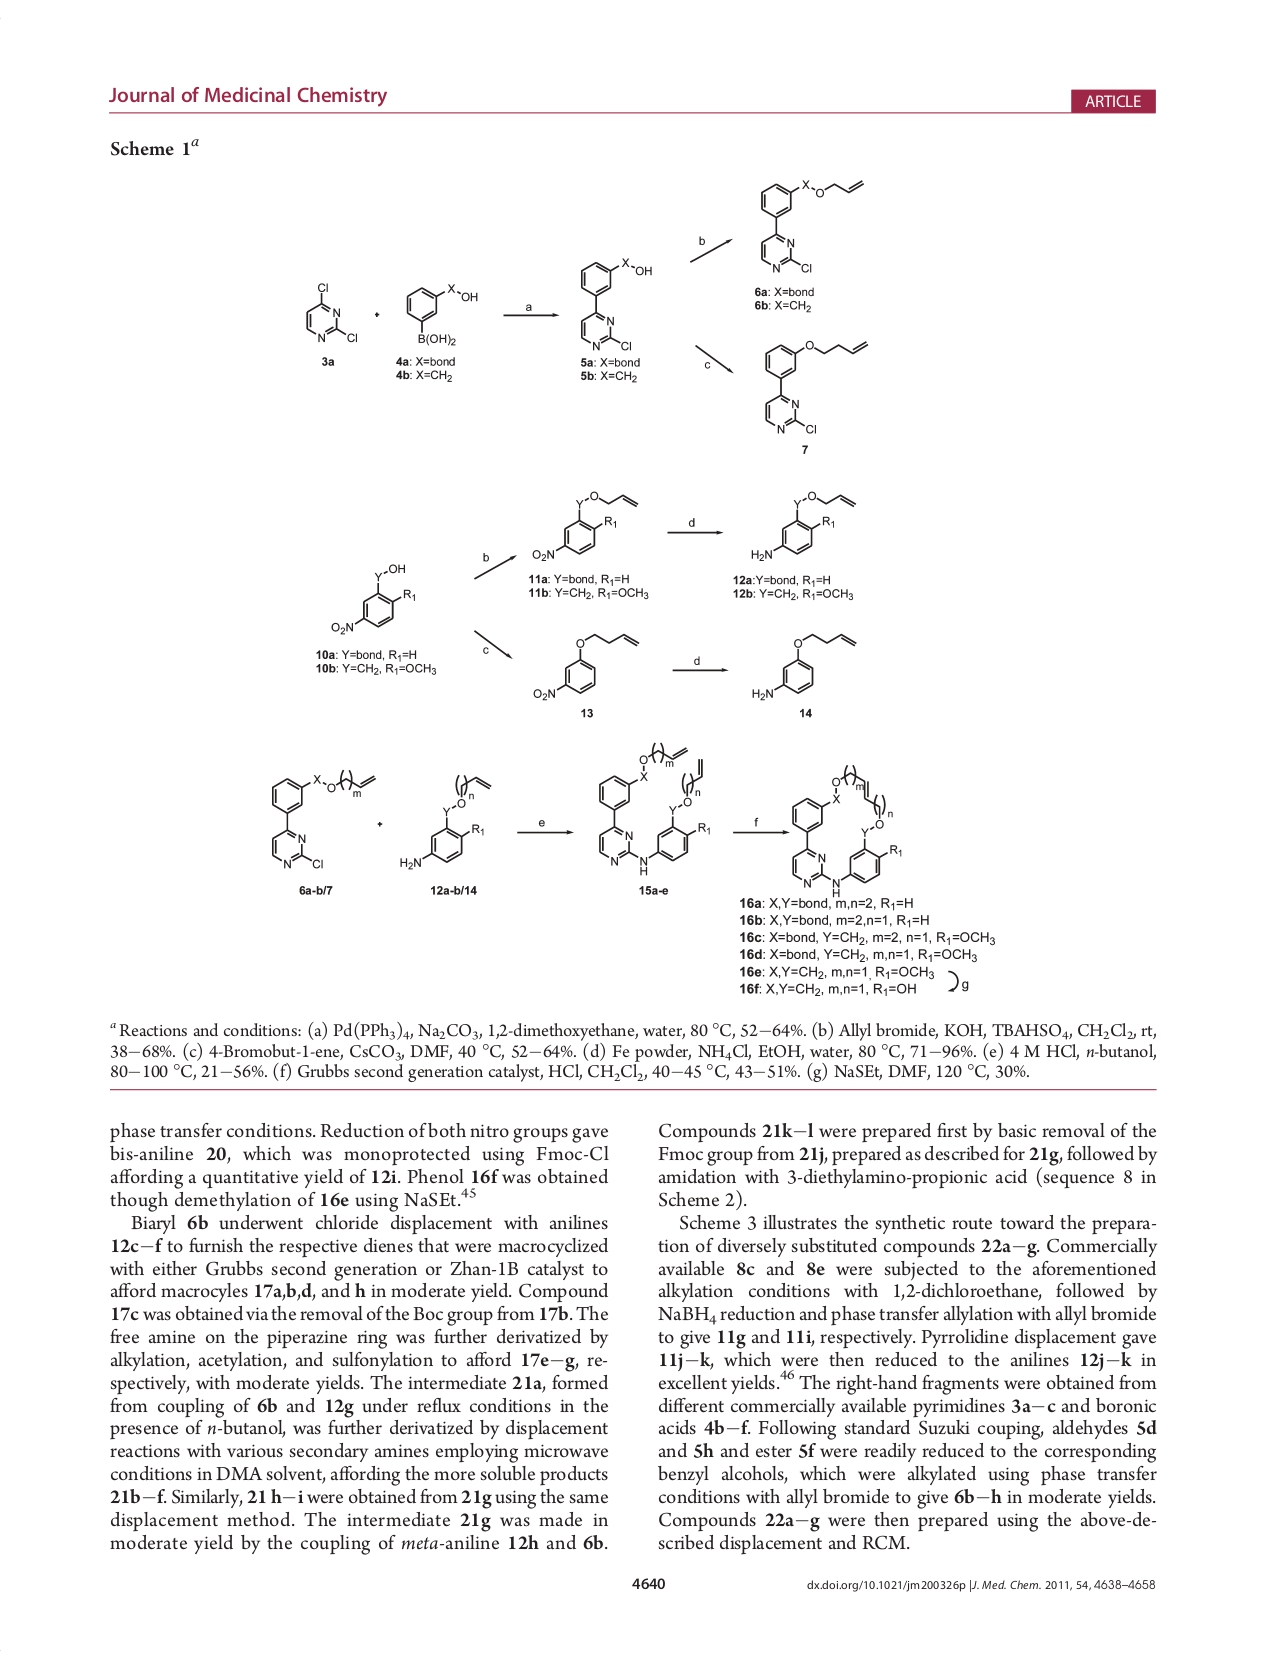exist_molecular: (596, 739, 711, 878), (790, 763, 906, 898), (755, 338, 874, 436), (754, 173, 866, 277), (265, 767, 376, 871), (398, 771, 493, 868), (529, 487, 640, 564), (528, 629, 641, 704), (747, 488, 856, 564), (749, 629, 856, 704), (574, 255, 657, 352), (323, 559, 419, 638), (402, 281, 479, 347), (297, 274, 359, 346)
